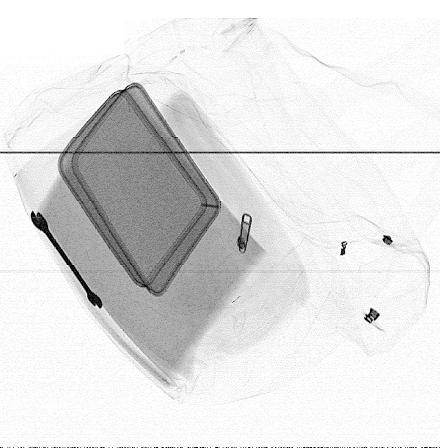Wrench: (29, 210, 104, 310)
